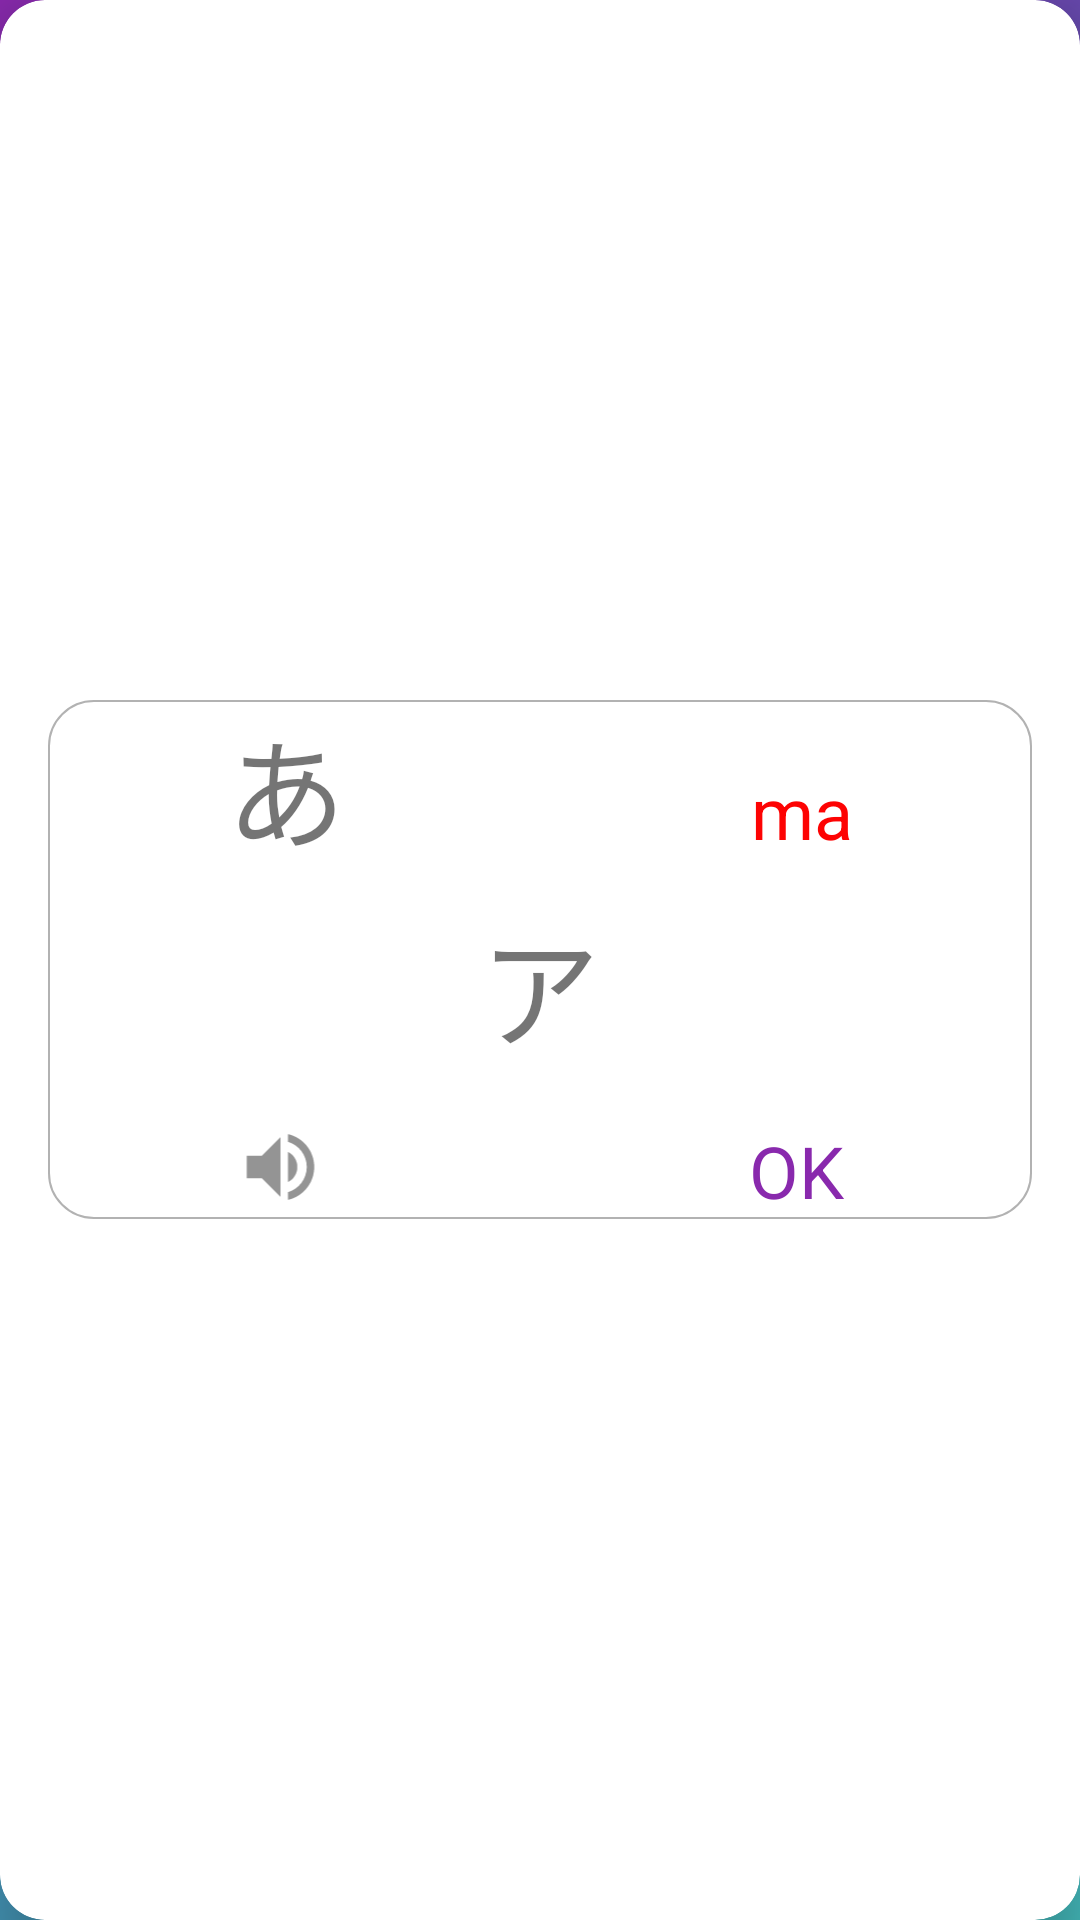

Named icons in this screenshot (1080 × 1920) and their centers, (x,y):
volume up: (280,1167)
